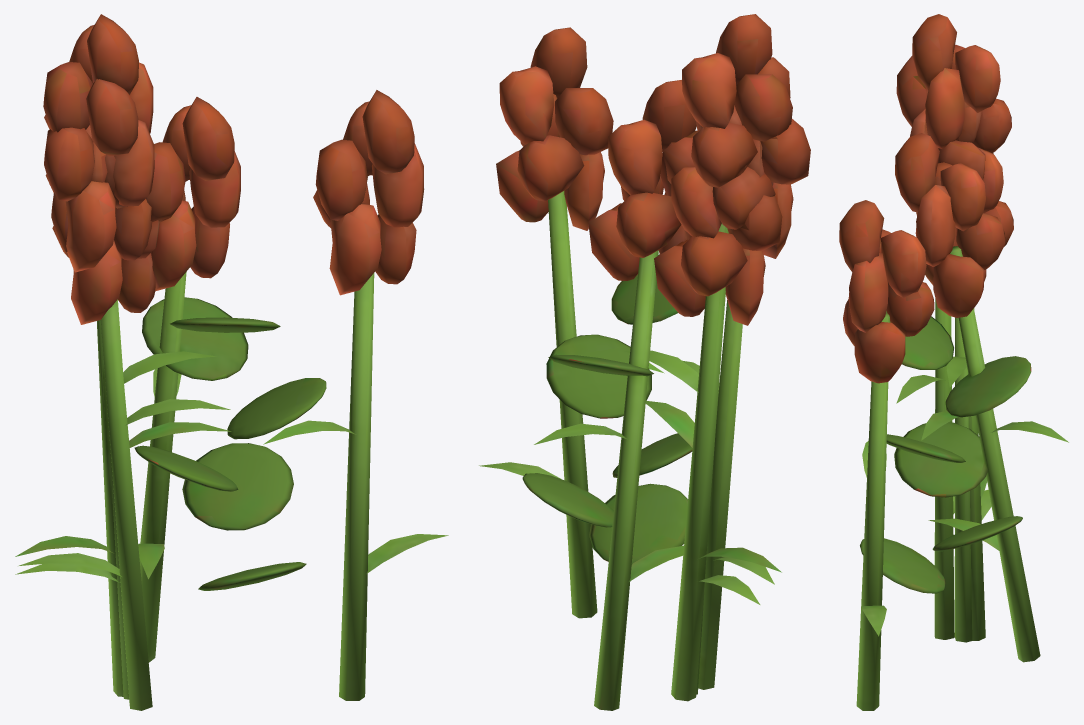
Rendered from crop_quinoa.glb.
3 views of the same model, side by side, from view 1: azimuth 30°, elevation 25°; view 2: azimuth 150°, elevation 25°; view 3: azimuth 270°, elevation 25° (orthographic). The views are drawn at different scales.
Visible parts, largest first — view 1: fruit, crop_quinoa; view 2: fruit, crop_quinoa; view 3: crop_quinoa, fruit.
Boxes of the visible parts, <box> form: fruit: <box>43,14,424,324</box>; crop_quinoa: <box>15,272,448,710</box>; fruit: <box>496,14,810,325</box>; crop_quinoa: <box>479,191,781,710</box>; crop_quinoa: <box>856,246,1068,710</box>; fruit: <box>839,14,1013,383</box>.
Bounding box in the file's own units: 0.2313 × 0.4135 × 0.1429.
Materials: 1 (1 with a texture image).
